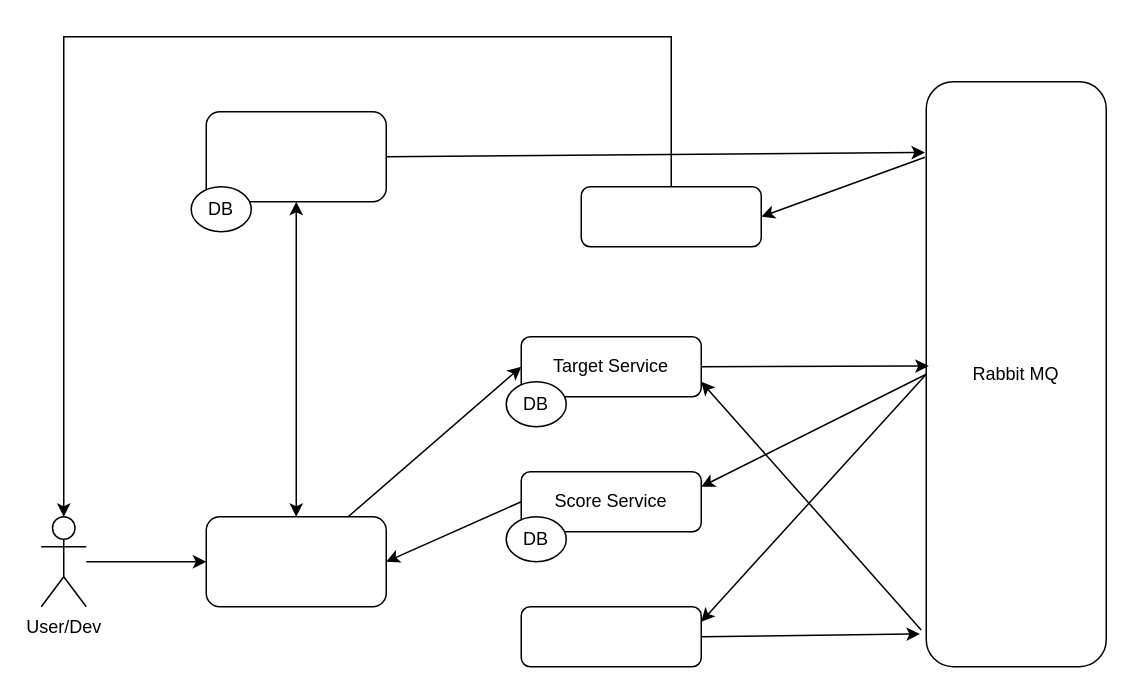
Some shapes in this 1133 by 693 pixel diagram are drawn without their labels. The centre of each missing label's shape, as x and y in pixels:
"API Gateway" goes at point (295, 561).
"Auth" goes at point (295, 156).
"Mail Service" goes at point (670, 216).
"Timer Service" goes at point (610, 636).
